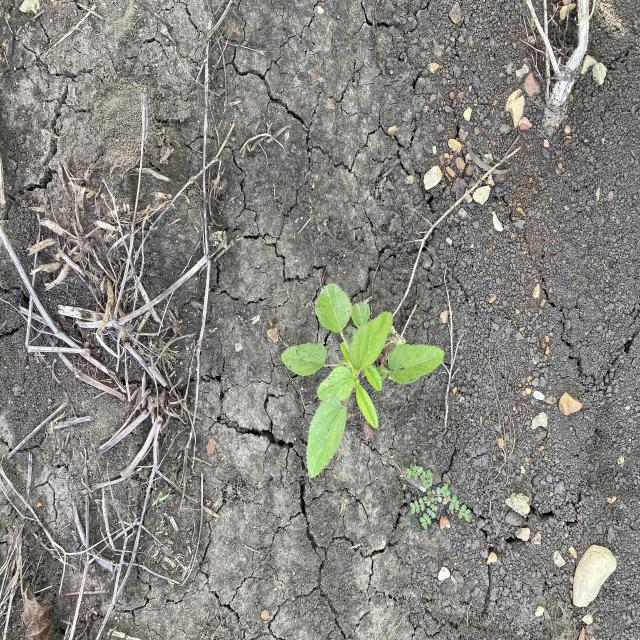PricklySida: (280, 281, 447, 480)
SpottedSpurge: (398, 459, 472, 533)
